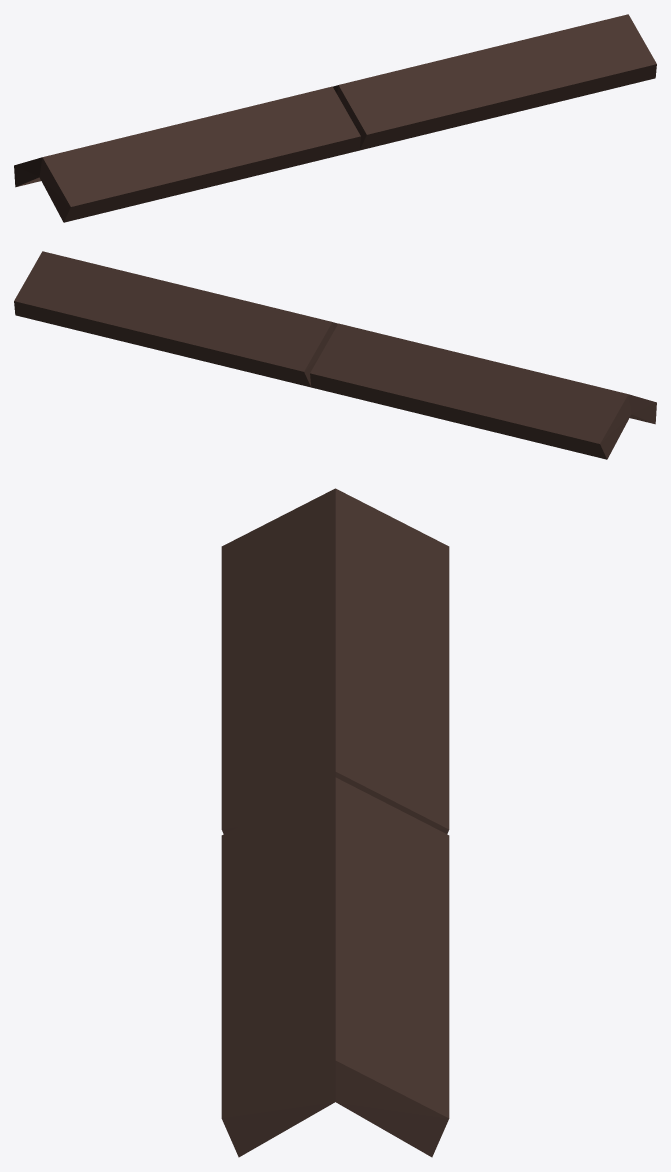
File: RoofTop.fbx
The picture shows the model from 3 angles, top to bottom: view 1: azimuth 30°, elevation 25°; view 2: azimuth 150°, elevation 25°; view 3: azimuth 270°, elevation 25°; orthographic projection. The views are drawn at different scales.
Visible parts, largest first — view 1: RoofTop; view 2: RoofTop; view 3: RoofTop.
Boxes of the visible parts, x1,y1,x2,y2 form: RoofTop: [14, 14, 656, 222]; RoofTop: [14, 251, 656, 459]; RoofTop: [221, 488, 449, 1157].
Size of the model in its own units: 200 by 15.23 by 33.31.
